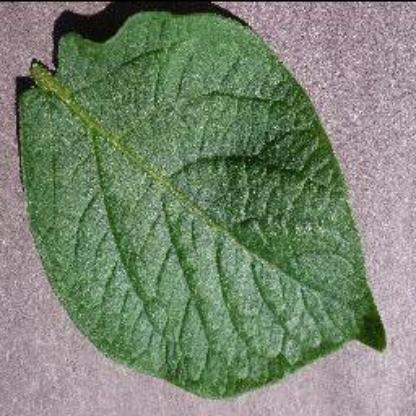Healthy-plant: (13, 9, 405, 403)
